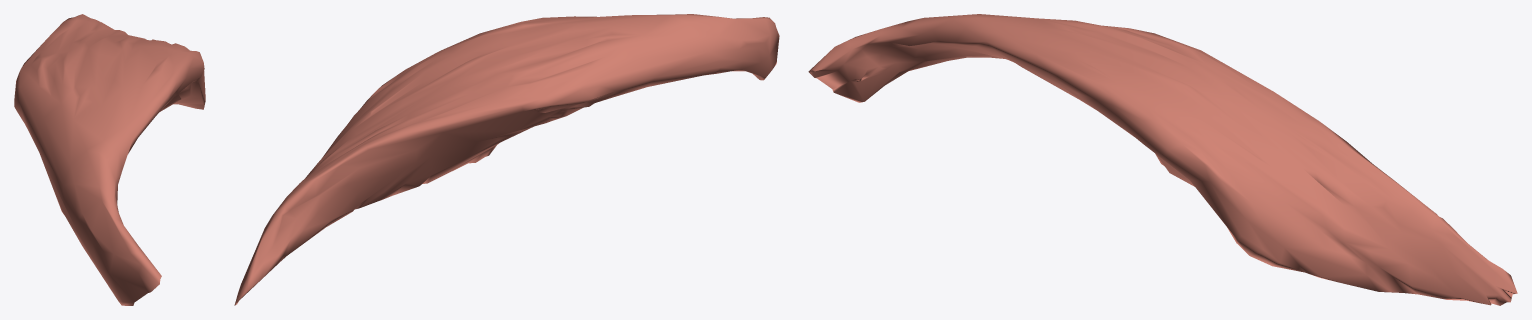
3 views of the same model, side by side, from view 1: azimuth 30°, elevation 25°; view 2: azimuth 150°, elevation 25°; view 3: azimuth 270°, elevation 25° (orthographic). The views are drawn at different scales.
Visible parts, largest first — view 1: 右侧腘肌; view 2: 右侧腘肌; view 3: 右侧腘肌.
Part boxes in pixels (<box>): 右侧腘肌: <box>14,14,205,305</box>; 右侧腘肌: <box>234,14,779,305</box>; 右侧腘肌: <box>808,14,1517,305</box>.
Bounding box in the file's own units: 0.0872 × 0.0538 × 0.1844.
